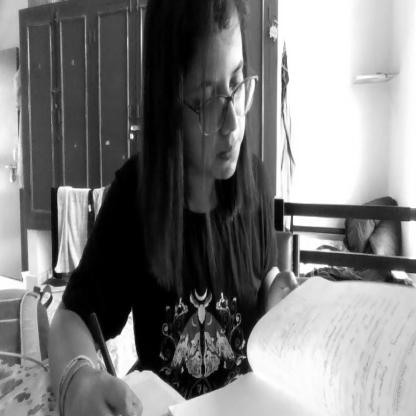Distracted: (149, 0, 250, 191)
